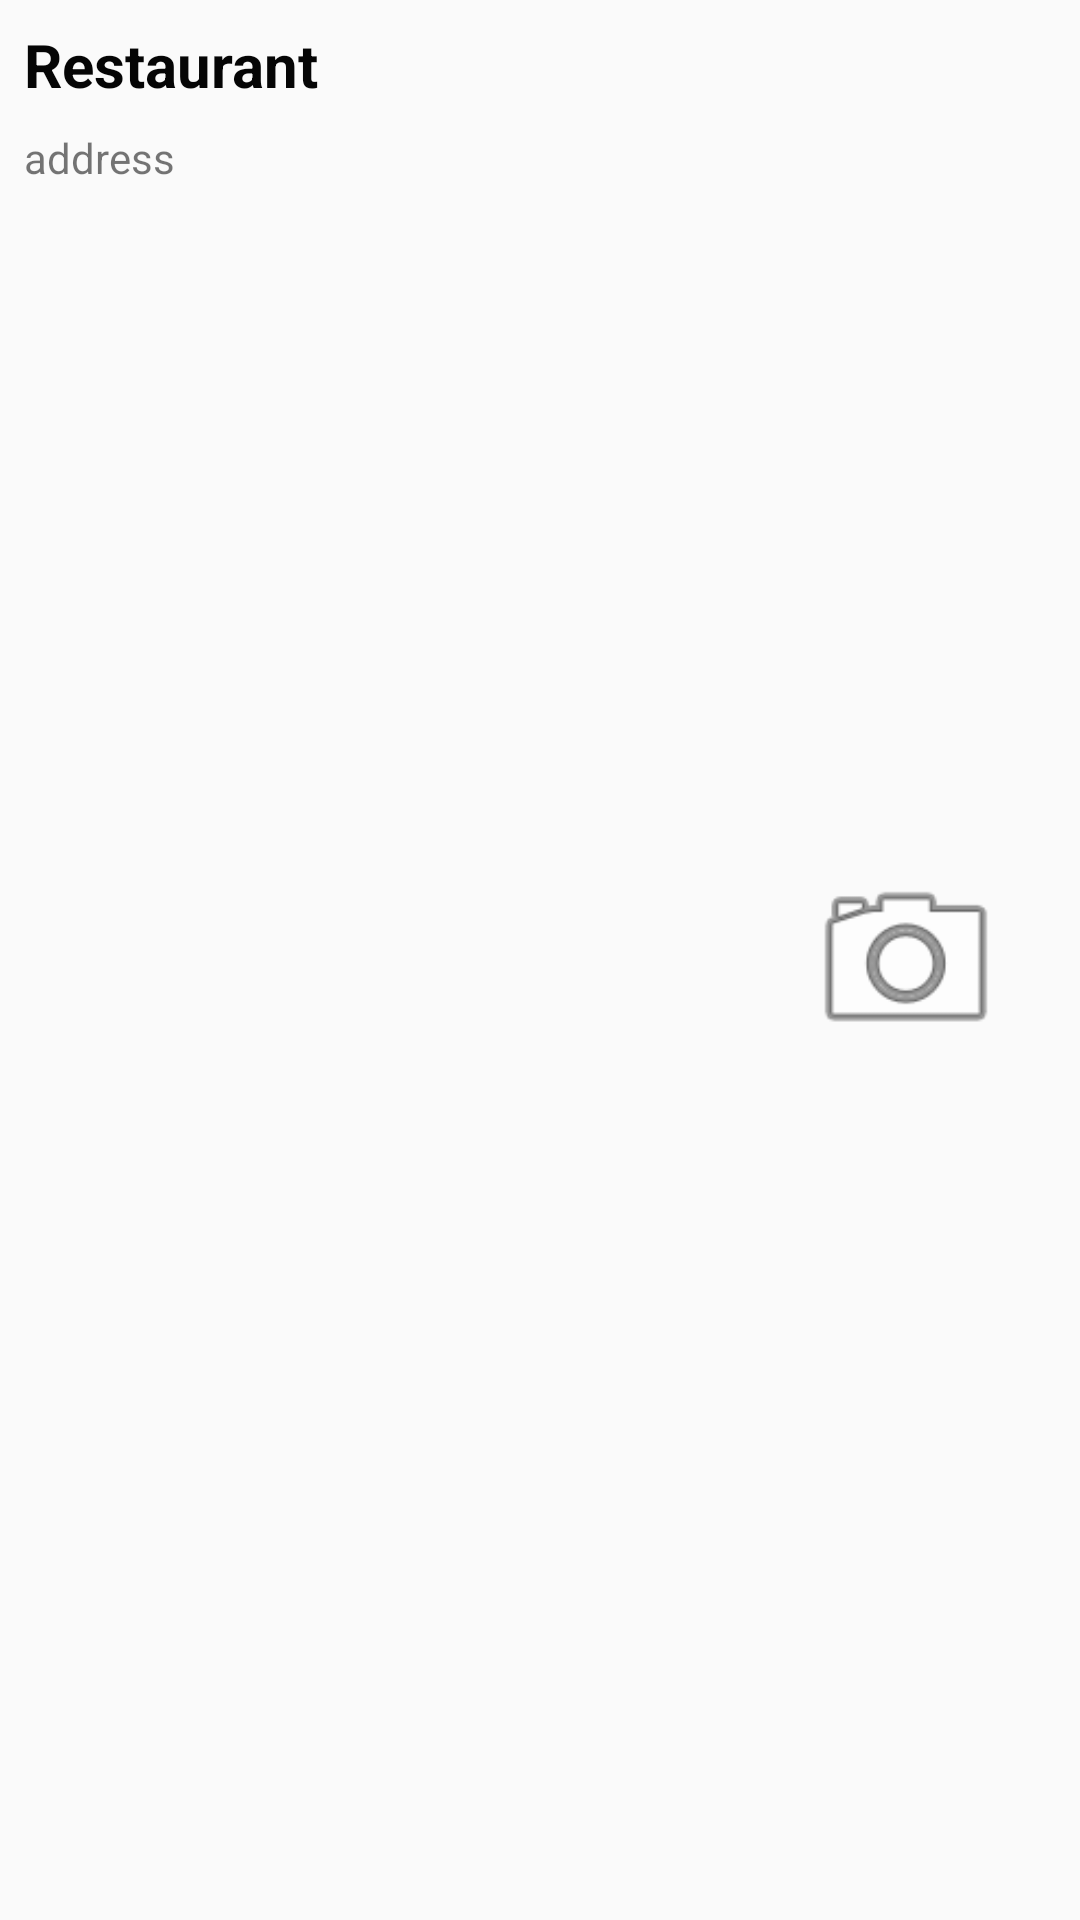

Screen size 1080w x 1920h. Icon name, then its center in pixels as (x=x, y=y):
camera: (x=906, y=957)
